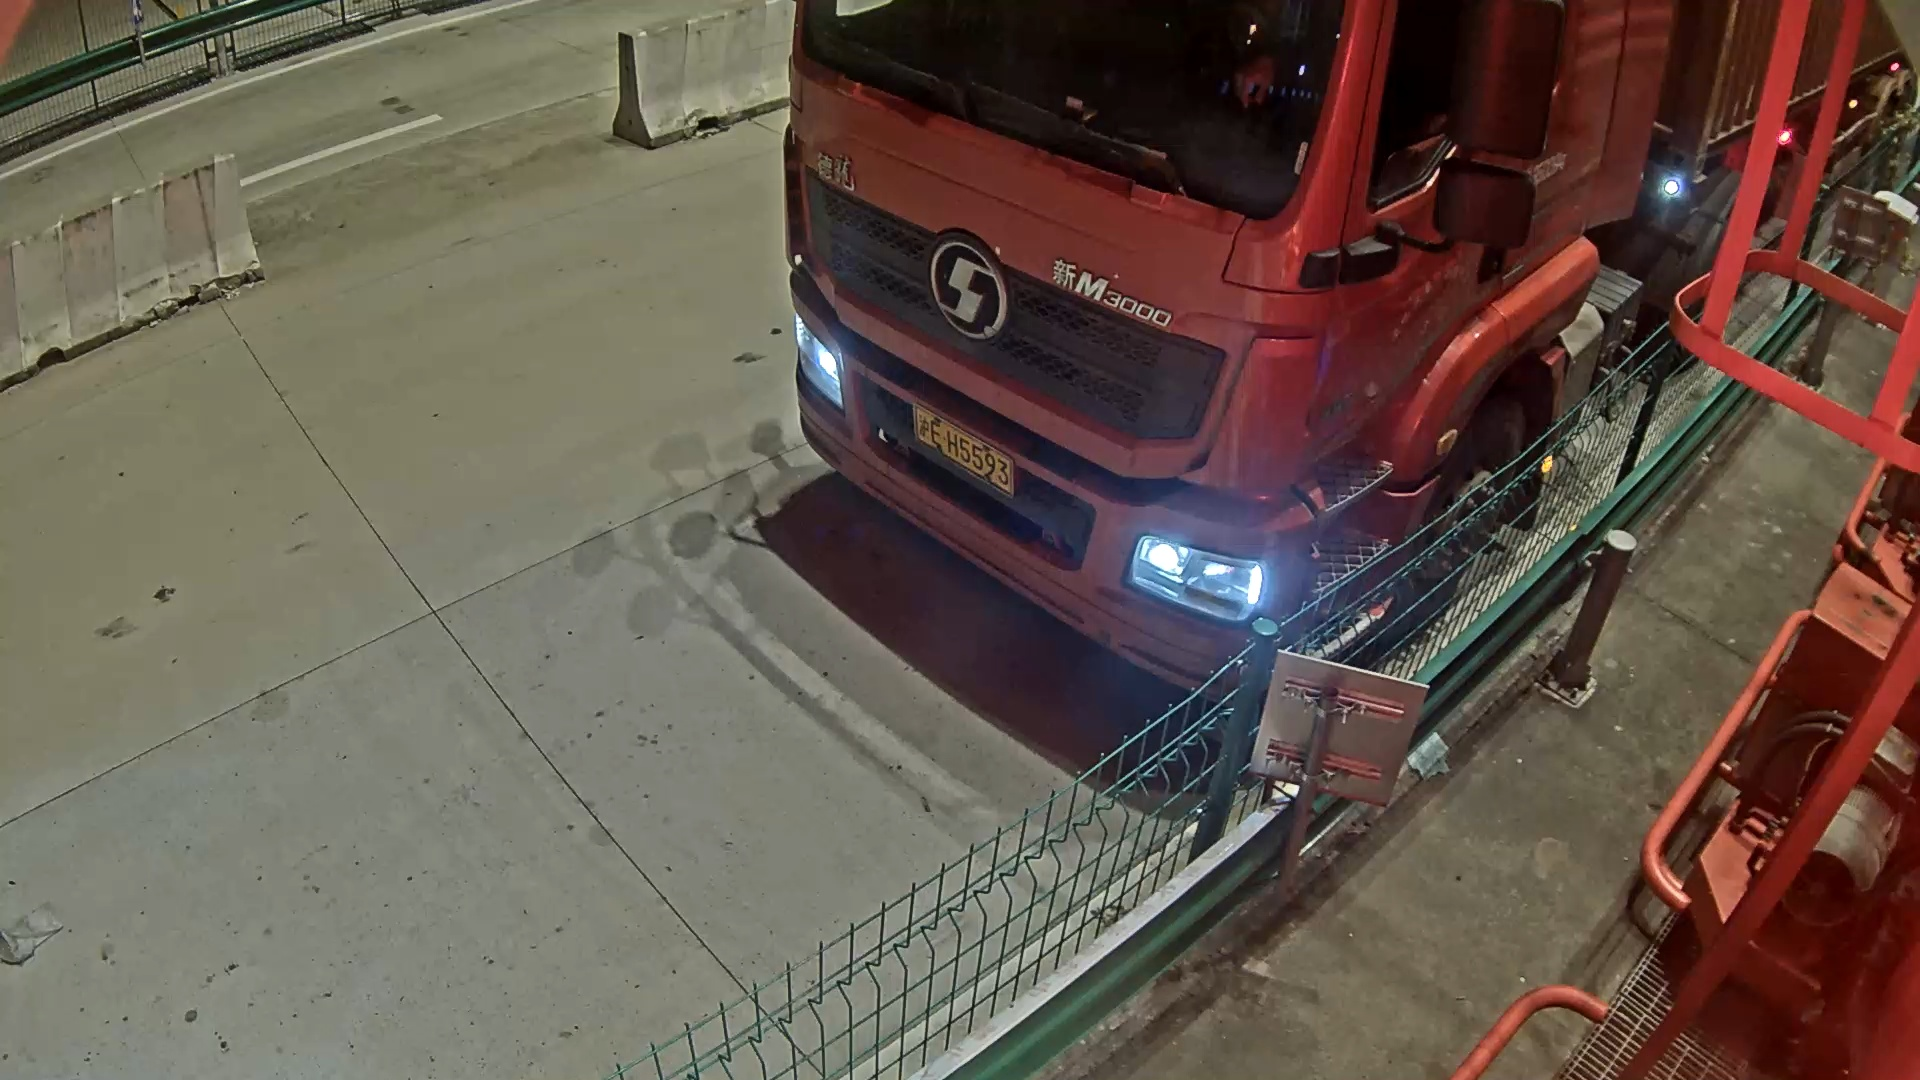head: (788, 1, 1672, 685)
plate: (913, 401, 1013, 497)
